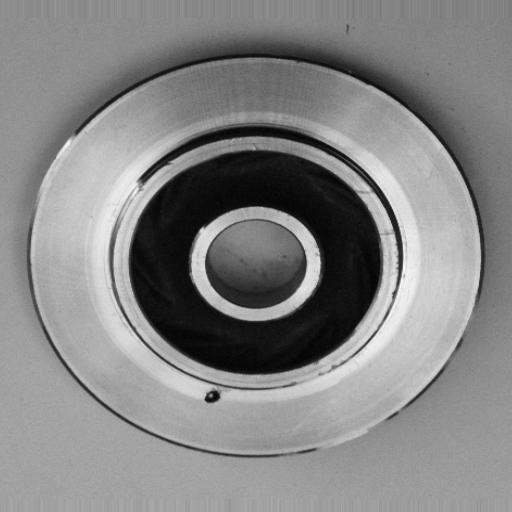pit: (193, 380, 232, 412)
scratch: (109, 169, 160, 245)
unpolished_casting: (25, 54, 486, 462)
